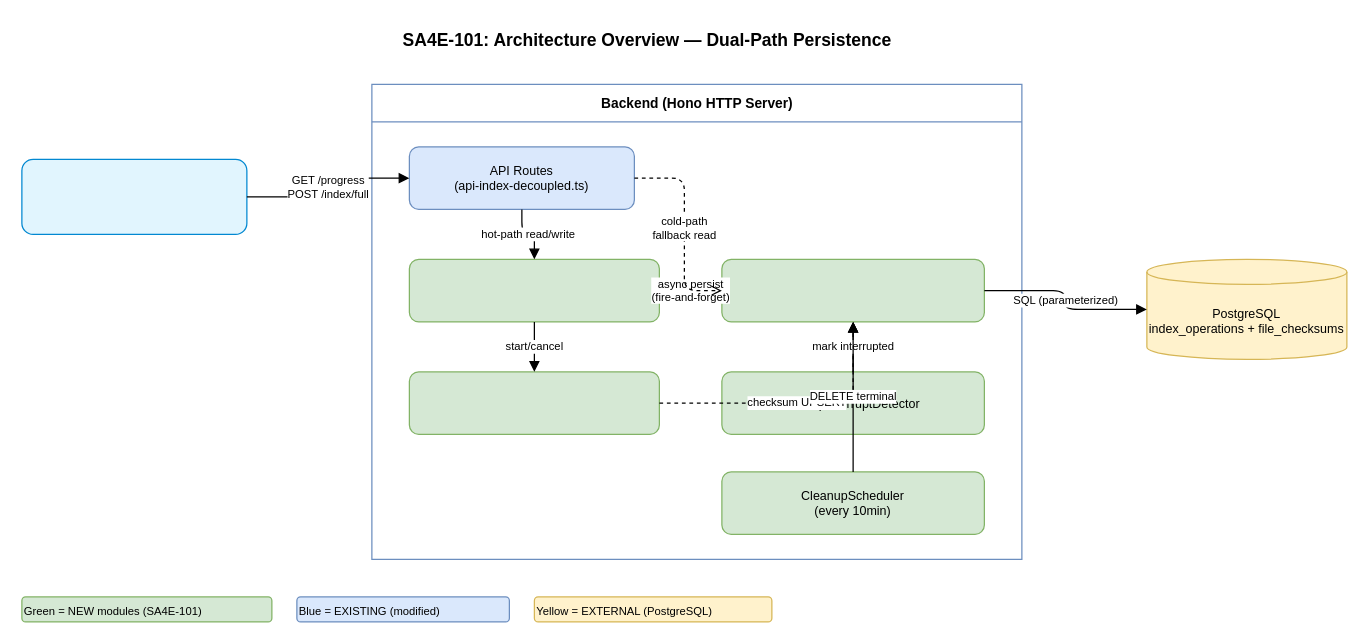
The diagram is 1369 pixels wide and 644 high, and some of its shapes have lost their labels. Here are the shapes that lost their labels. From the top down, the centre of each, then its label:
the point at 134,196: VS Code Extension (IndexerHttpClient)
the point at 533,290: IndexOperationManager (Hot-Path: in-memory Map)
the point at 852,290: Repositories (IndexOperation + FileChecksum)
the point at 533,402: IndexingEngine + ChecksumService
